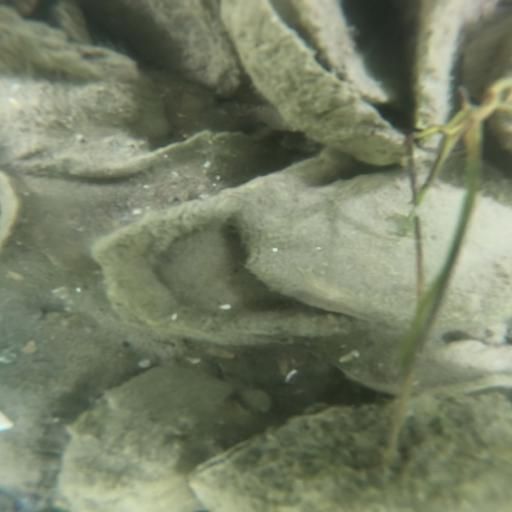Oyster-Closed: (178, 393, 512, 512), (237, 177, 410, 315), (54, 367, 223, 504), (1, 24, 151, 169), (92, 1, 241, 92), (290, 1, 404, 103), (321, 339, 512, 397), (418, 180, 468, 297), (470, 18, 512, 106)
